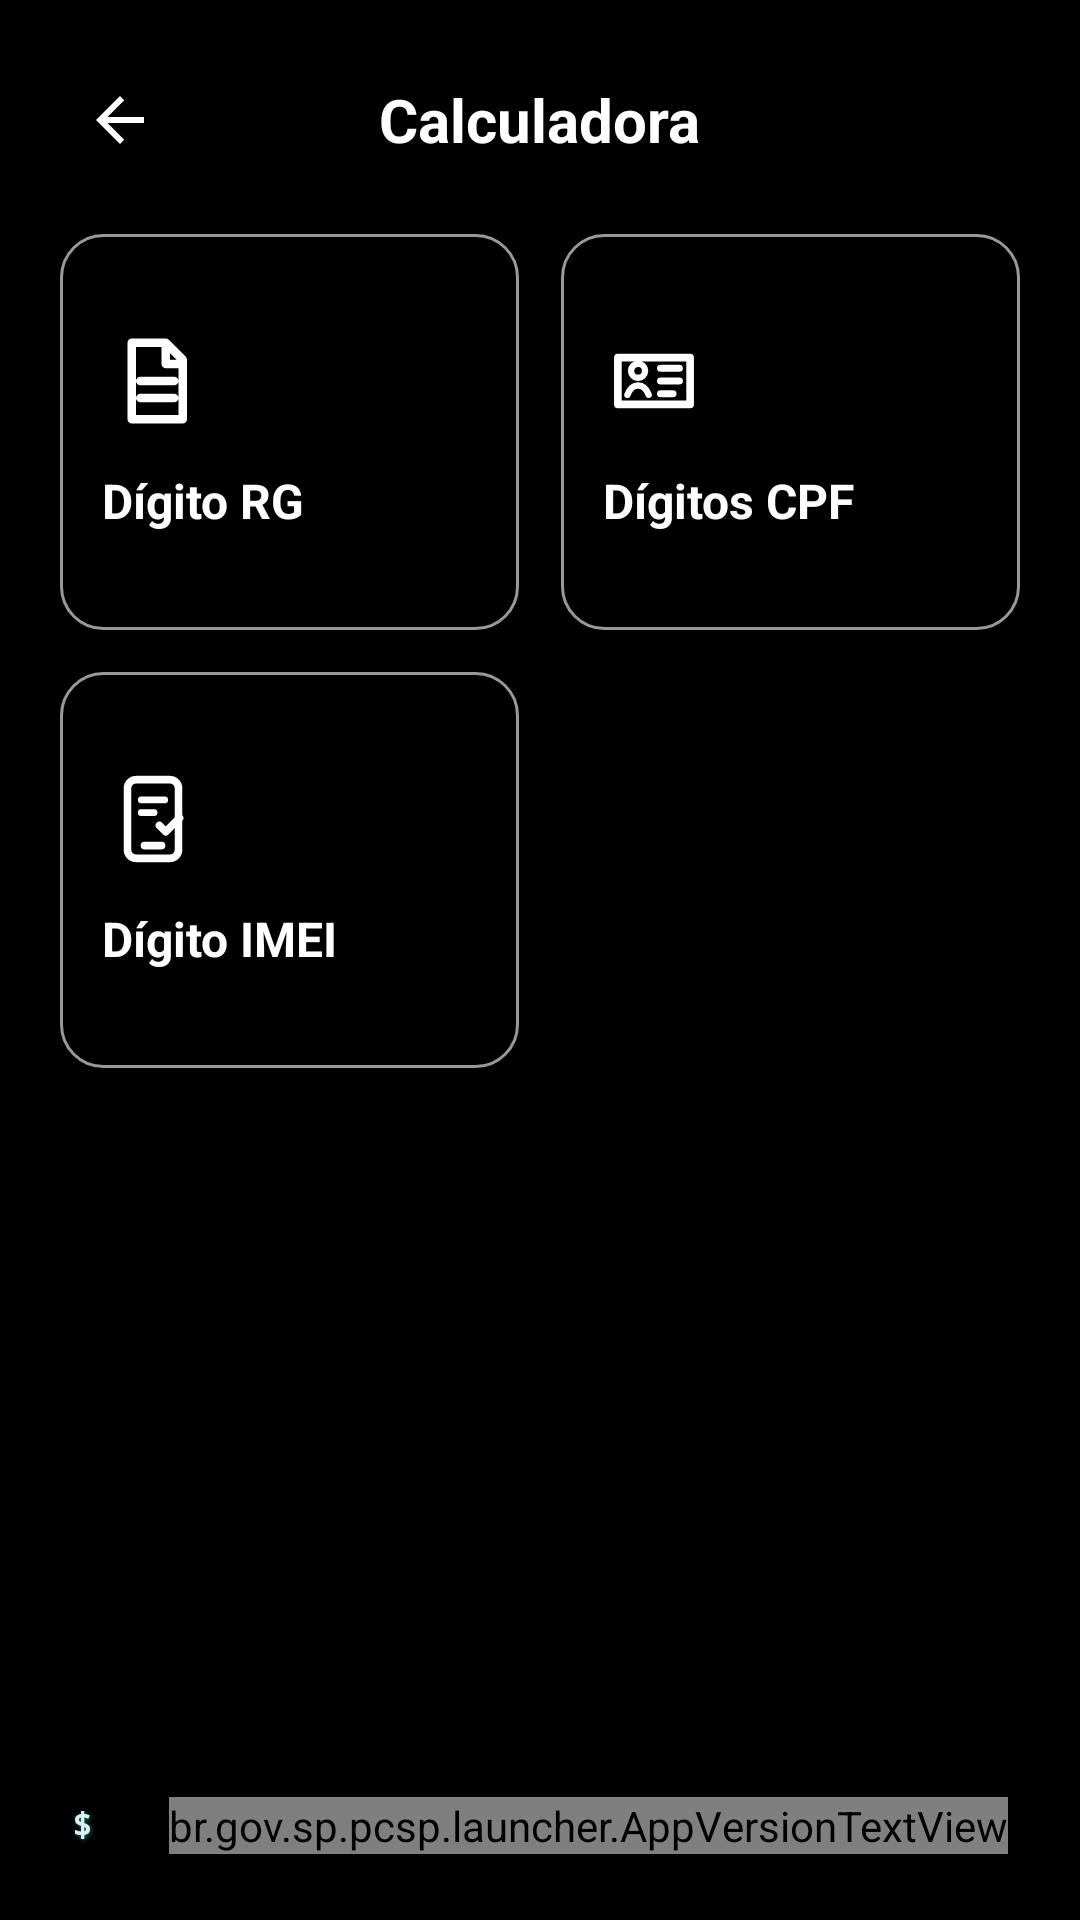

Where to tap for icons on this 1080px x 1920px app screen, as [x,y]:
shortcut document: [157,381]
tool id card: [654,381]
tool imei: [153,819]
Voltar: [120,120]
